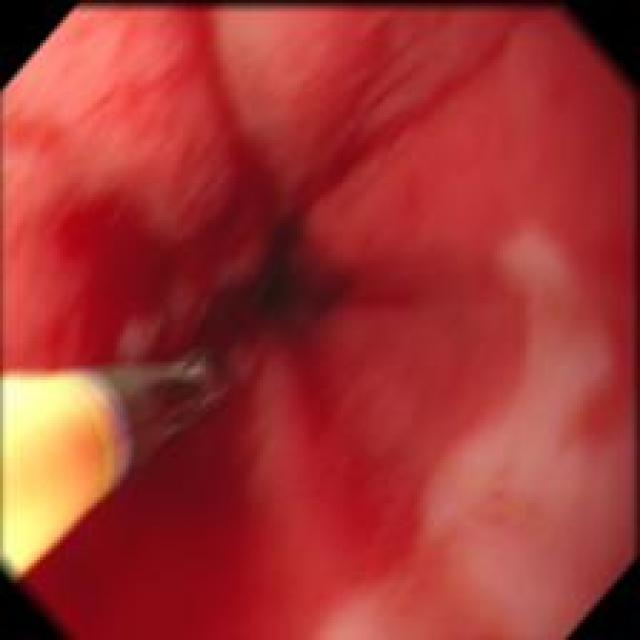blur: (1, 1, 636, 638), (171, 162, 409, 434), (2, 344, 234, 581), (461, 216, 626, 532)
contrast: (210, 210, 354, 349)
instrument: (0, 348, 234, 580)
